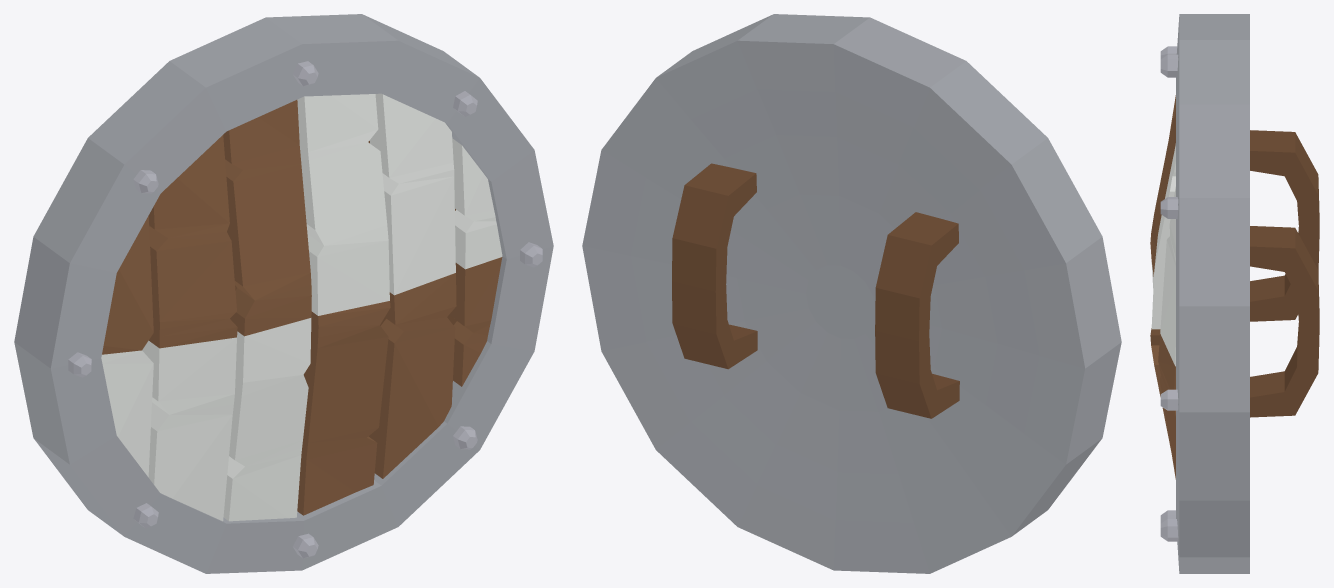
The model's file is Shield_Round_2.glb.
The picture shows the model from 3 angles, left to right: view 1: azimuth 30°, elevation 25°; view 2: azimuth 150°, elevation 25°; view 3: azimuth 270°, elevation 25°; orthographic projection. The views are drawn at different scales.
Parts seen in each view (by area): view 1: Shield_Round_2; view 2: Shield_Round_2; view 3: Shield_Round_2.
Boxes of the visible parts, left/top/right/bottom form: Shield_Round_2: left=14, top=14, right=553, bottom=573; Shield_Round_2: left=582, top=14, right=1121, bottom=573; Shield_Round_2: left=1150, top=14, right=1319, bottom=573.
Size of the model in its own units: 2 by 2 by 0.6036.
Materials: 1 (1 with a texture image).
